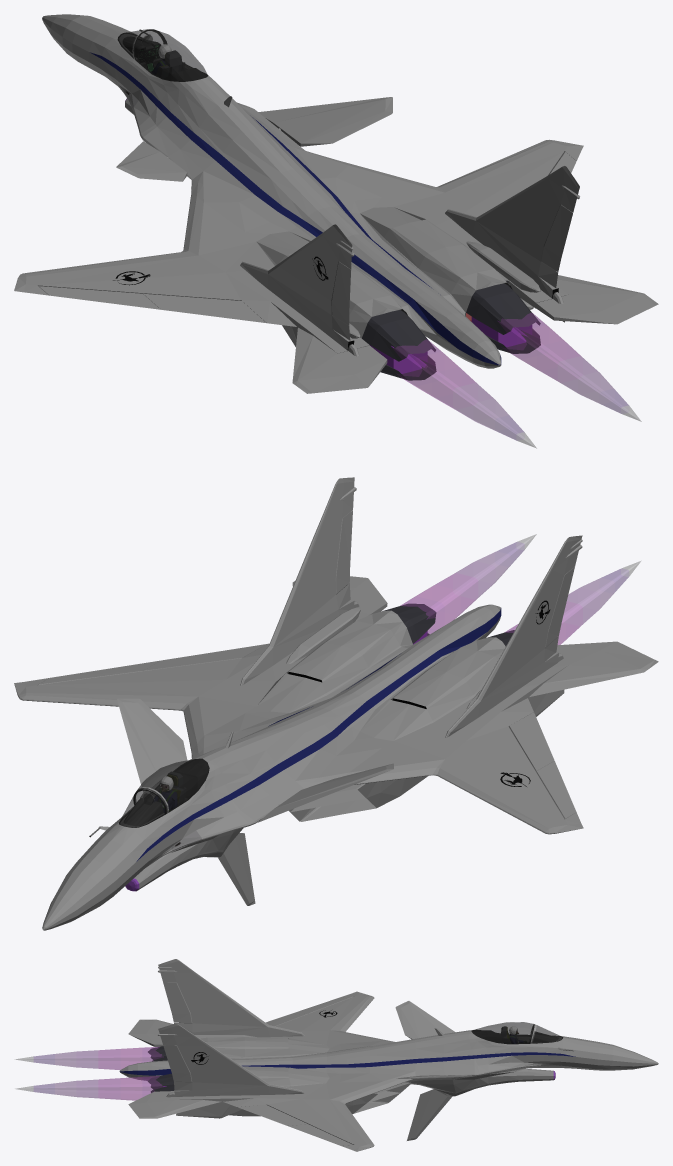
Rendered from yakumo.obj.
3 views of the same model, one above another, from view 1: azimuth 30°, elevation 25°; view 2: azimuth 150°, elevation 25°; view 3: azimuth 270°, elevation 25° (orthographic). The views are drawn at different scales.
Visible parts, largest first — view 1: ShapeIndexedFaceSet_ShapeIndexedFaceSet.001, ShapeIndexedFaceSet.030_ShapeIndexedFaceSet.031, ShapeIndexedFaceSet.020_ShapeIndexedFaceSet.021, ShapeIndexedFaceSet.002_ShapeIndexedFaceSet.003, ShapeIndexedFaceSet.107_ShapeIndexedFaceSet.108, ShapeIndexedFaceSet.109_ShapeIndexedFaceSet.110, ShapeIndexedFaceSet.145_ShapeIndexedFaceSet.146, ShapeIndexedFaceSet.034_ShapeIndexedFaceSet.035, ShapeIndexedFaceSet.112_ShapeIndexedFaceSet.113, ShapeIndexedFaceSet.057_ShapeIndexedFaceSet.058, ShapeIndexedFaceSet.026_ShapeIndexedFaceSet.027, ShapeIndexedFaceSet.149_ShapeIndexedFaceSet.150 (+16 smaller); view 2: ShapeIndexedFaceSet_ShapeIndexedFaceSet.001, ShapeIndexedFaceSet.030_ShapeIndexedFaceSet.031, ShapeIndexedFaceSet.020_ShapeIndexedFaceSet.021, ShapeIndexedFaceSet.107_ShapeIndexedFaceSet.108, ShapeIndexedFaceSet.002_ShapeIndexedFaceSet.003, ShapeIndexedFaceSet.145_ShapeIndexedFaceSet.146, ShapeIndexedFaceSet.026_ShapeIndexedFaceSet.027, ShapeIndexedFaceSet.021_ShapeIndexedFaceSet.022, ShapeIndexedFaceSet.010_ShapeIndexedFaceSet.011, ShapeIndexedFaceSet.159_ShapeIndexedFaceSet.160, ShapeIndexedFaceSet.015_ShapeIndexedFaceSet.016, ShapeIndexedFaceSet.057_ShapeIndexedFaceSet.058 (+18 smaller); view 3: ShapeIndexedFaceSet_ShapeIndexedFaceSet.001, ShapeIndexedFaceSet.030_ShapeIndexedFaceSet.031, ShapeIndexedFaceSet.002_ShapeIndexedFaceSet.003, ShapeIndexedFaceSet.109_ShapeIndexedFaceSet.110, ShapeIndexedFaceSet.010_ShapeIndexedFaceSet.011, ShapeIndexedFaceSet.145_ShapeIndexedFaceSet.146, ShapeIndexedFaceSet.015_ShapeIndexedFaceSet.016, ShapeIndexedFaceSet.026_ShapeIndexedFaceSet.027, ShapeIndexedFaceSet.020_ShapeIndexedFaceSet.021, ShapeIndexedFaceSet.033_ShapeIndexedFaceSet.034, ShapeIndexedFaceSet.111_ShapeIndexedFaceSet.112, ShapeIndexedFaceSet.114_ShapeIndexedFaceSet.115 (+16 smaller).
Boxes of the visible parts, x1=… form: ShapeIndexedFaceSet_ShapeIndexedFaceSet.001: x1=14, y1=14, x2=583, y2=368; ShapeIndexedFaceSet.030_ShapeIndexedFaceSet.031: x1=240, y1=166, x2=579, y2=350; ShapeIndexedFaceSet.020_ShapeIndexedFaceSet.021: x1=292, y1=327, x2=387, y2=393; ShapeIndexedFaceSet.002_ShapeIndexedFaceSet.003: x1=90, y1=52, x2=501, y2=365; ShapeIndexedFaceSet.107_ShapeIndexedFaceSet.108: x1=258, y1=97, x2=392, y2=146; ShapeIndexedFaceSet.109_ShapeIndexedFaceSet.110: x1=536, y1=275, x2=658, y2=324; ShapeIndexedFaceSet.145_ShapeIndexedFaceSet.146: x1=133, y1=29, x2=207, y2=81; ShapeIndexedFaceSet.034_ShapeIndexedFaceSet.035: x1=362, y1=310, x2=435, y2=361; ShapeIndexedFaceSet.112_ShapeIndexedFaceSet.113: x1=466, y1=283, x2=540, y2=334; ShapeIndexedFaceSet.057_ShapeIndexedFaceSet.058: x1=143, y1=293, x2=266, y2=323; ShapeIndexedFaceSet.026_ShapeIndexedFaceSet.027: x1=145, y1=34, x2=579, y2=346; ShapeIndexedFaceSet.149_ShapeIndexedFaceSet.150: x1=412, y1=352, x2=461, y2=397; ShapeIndexedFaceSet_ShapeIndexedFaceSet.001: x1=14, y1=604, x2=583, y2=930; ShapeIndexedFaceSet.030_ShapeIndexedFaceSet.031: x1=240, y1=477, x2=582, y2=737; ShapeIndexedFaceSet.020_ShapeIndexedFaceSet.021: x1=529, y1=641, x2=658, y2=696; ShapeIndexedFaceSet.107_ShapeIndexedFaceSet.108: x1=117, y1=698, x2=187, y2=792; ShapeIndexedFaceSet.002_ShapeIndexedFaceSet.003: x1=136, y1=616, x2=496, y2=861; ShapeIndexedFaceSet.145_ShapeIndexedFaceSet.146: x1=136, y1=759, x2=209, y2=812; ShapeIndexedFaceSet.026_ShapeIndexedFaceSet.027: x1=98, y1=487, x2=582, y2=830; ShapeIndexedFaceSet.021_ShapeIndexedFaceSet.022: x1=259, y1=672, x2=392, y2=821; ShapeIndexedFaceSet.010_ShapeIndexedFaceSet.011: x1=257, y1=763, x2=393, y2=822; ShapeIndexedFaceSet.159_ShapeIndexedFaceSet.160: x1=432, y1=573, x2=477, y2=615; ShapeIndexedFaceSet.015_ShapeIndexedFaceSet.016: x1=218, y1=833, x2=255, y2=905; ShapeIndexedFaceSet.057_ShapeIndexedFaceSet.058: x1=509, y1=712, x2=554, y2=771; ShapeIndexedFaceSet_ShapeIndexedFaceSet.001: x1=119, y1=991, x2=658, y2=1151; ShapeIndexedFaceSet.030_ShapeIndexedFaceSet.031: x1=158, y1=959, x2=304, y2=1096; ShapeIndexedFaceSet.002_ShapeIndexedFaceSet.003: x1=120, y1=1052, x2=575, y2=1075; ShapeIndexedFaceSet.109_ShapeIndexedFaceSet.110: x1=128, y1=1091, x2=221, y2=1118; ShapeIndexedFaceSet.010_ShapeIndexedFaceSet.011: x1=395, y1=1001, x2=455, y2=1039; ShapeIndexedFaceSet.145_ShapeIndexedFaceSet.146: x1=471, y1=1022, x2=534, y2=1043; ShapeIndexedFaceSet.015_ShapeIndexedFaceSet.016: x1=407, y1=1089, x2=451, y2=1140; ShapeIndexedFaceSet.026_ShapeIndexedFaceSet.027: x1=158, y1=967, x2=563, y2=1118; ShapeIndexedFaceSet.020_ShapeIndexedFaceSet.021: x1=128, y1=1019, x2=173, y2=1046; ShapeIndexedFaceSet.033_ShapeIndexedFaceSet.034: x1=163, y1=982, x2=192, y2=1022; ShapeIndexedFaceSet.111_ShapeIndexedFaceSet.112: x1=163, y1=1045, x2=192, y2=1081; ShapeIndexedFaceSet.114_ShapeIndexedFaceSet.115: x1=238, y1=1104, x2=307, y2=1125.
Bounding box in the file's own units: 143 × 60.79 × 237.
